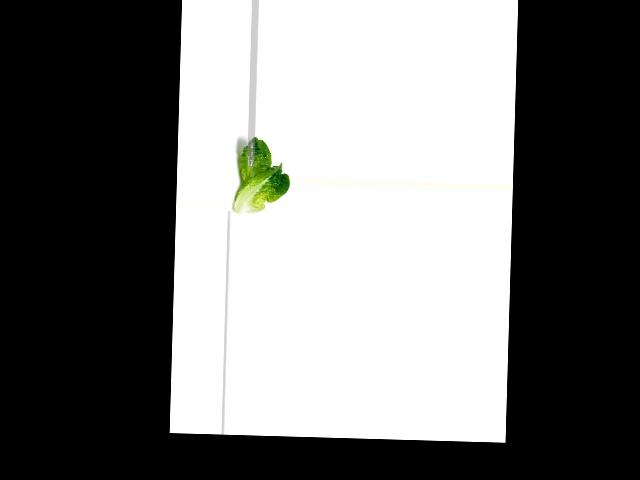lettuce: (235, 134, 291, 217)
